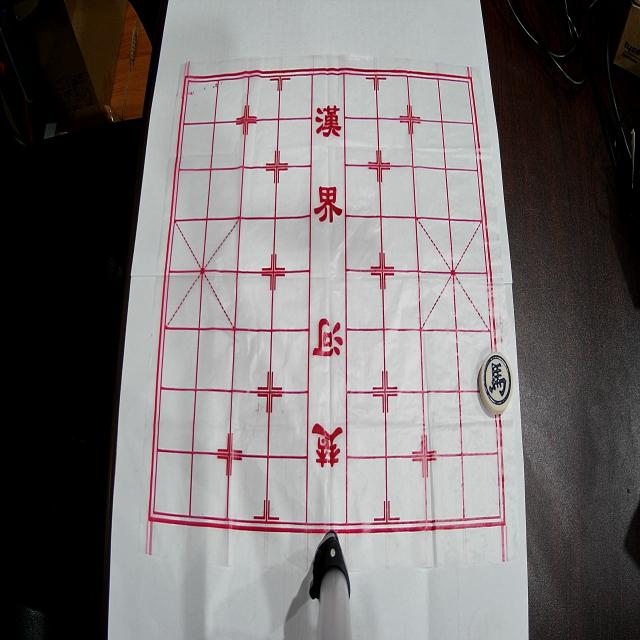black-horse: (479, 352, 513, 415)
